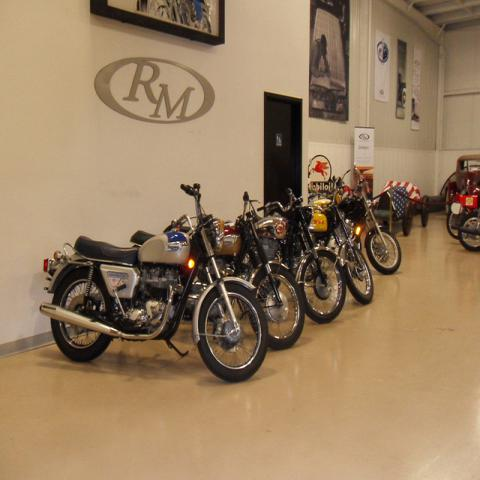car: (438, 156, 479, 206)
motorcycle: (41, 181, 270, 382), (128, 191, 306, 349), (256, 189, 348, 326), (303, 168, 374, 307), (338, 164, 402, 274), (445, 178, 479, 240), (450, 192, 479, 252)
